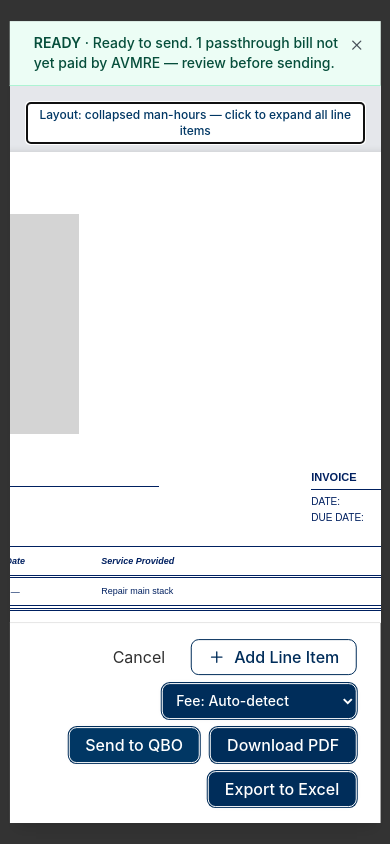
Test: InvoicePreviewModal — pre-send review › renders only the unpaid section when nothing is unapproved
The width and height of the screenshot is (390, 844).
Click the button "Send to QBO": point(134, 745) [68,727,200,763]
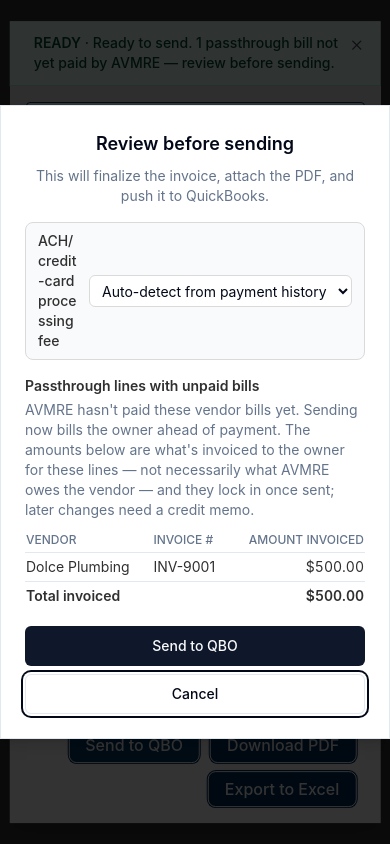
Now the text "Passthrough lines with unpaid bills" is shown, box [25,377,259,394]
Now the text "later changes need a credit memo" is shown, box [25,401,358,518]
